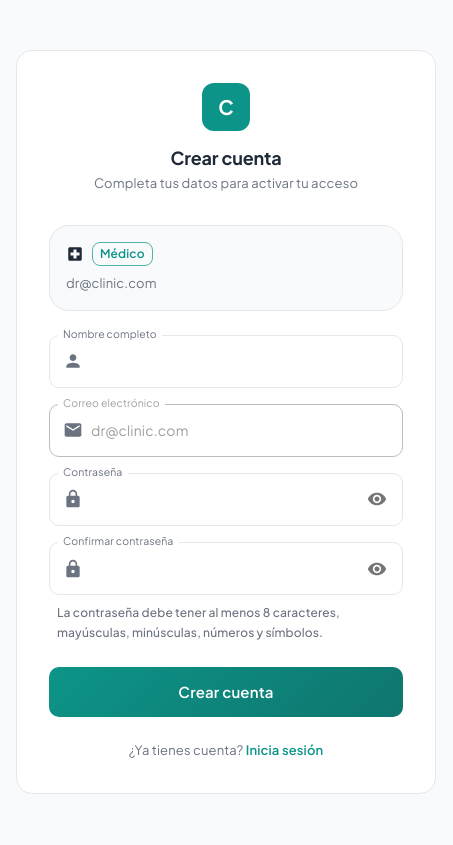
Test: RegisterPage › shows validation errors when submitting an empty form
This screenshot has width=453, height=845.
Expected: the heading "Crear cuenta" is shown, [170,146,282,169]
What coordinates should you click on to do the following:
click the button "Crear cuenta"
I would click on:
 (226, 692)
Its box is [49,667,403,717].
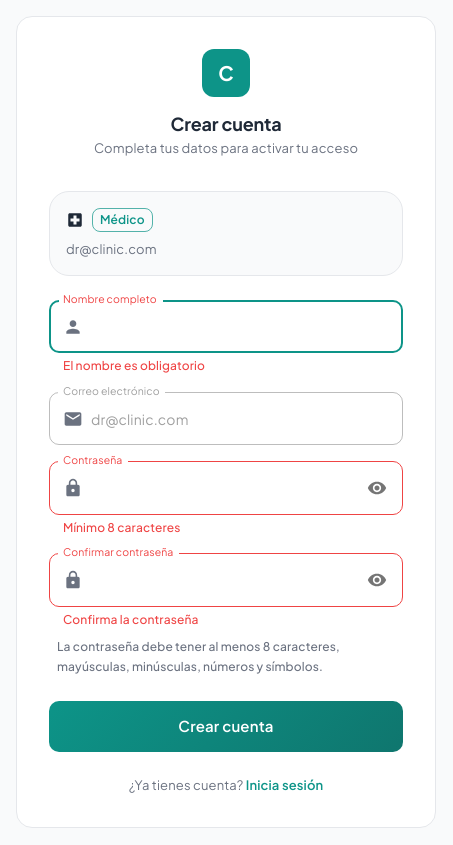
Expected: the text "El nombre es obligatorio" is shown, [63,358,205,373]
